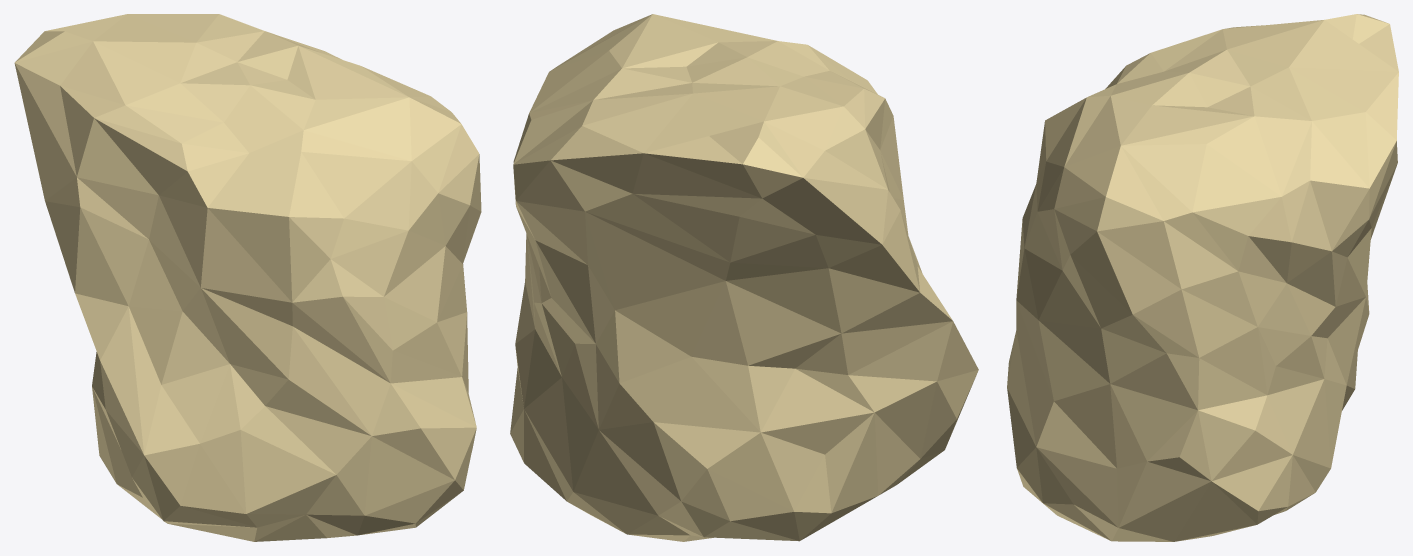
Rendered from Asteroid (70).fbx.
3 renders of one model, left to right at view 1: azimuth 30°, elevation 25°; view 2: azimuth 150°, elevation 25°; view 3: azimuth 270°, elevation 25°, orthographic. The views are drawn at different scales.
Visible parts, largest first — view 1: Asteroid164; view 2: Asteroid164; view 3: Asteroid164.
Part boxes in pixels (x1=…): Asteroid164: x1=14, y1=14, x2=481, y2=541; Asteroid164: x1=510, y1=14, x2=978, y2=541; Asteroid164: x1=1007, y1=14, x2=1398, y2=541.
Size of the model in its own units: 372 by 426 by 349.
